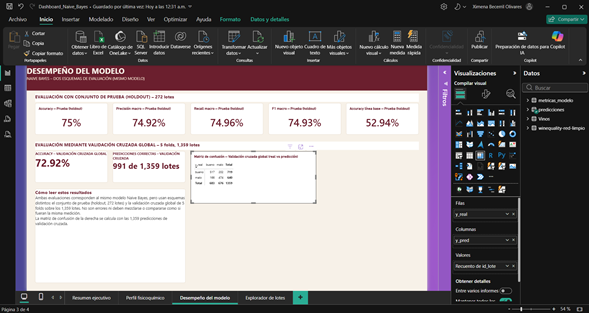

The dashboard page shown, as its layout file describes it:
{"tool":"powerbi","page":{"name":"Desempeño  del modelo","canvas":[1920,1080],"ordinal":2},"visuals":[{"type":"textbox","box":[0,0,1920,120],"z":0},{"type":"textbox","box":[40,135,1840,40],"z":1},{"type":"card","title":"Accuracy – Prueba (holdout)","fields":{"Values":["metricas_modelo.Accuracy modelo"]},"box":[40,180,348,150],"z":2},{"type":"card","title":"Precisión macro – Prueba (holdout)","fields":{"Values":["metricas_modelo.Precision modelo"]},"box":[413,180,348,150],"z":3},{"type":"card","title":"Recall macro – Prueba (holdout)","fields":{"Values":["metricas_modelo.Recall modelo"]},"box":[786,180,348,150],"z":4},{"type":"card","title":"F1 macro – Prueba (holdout)","fields":{"Values":["metricas_modelo.F1 modelo"]},"box":[1159,180,348,150],"z":5},{"type":"card","title":"Accuracy línea base – Prueba (holdout)","fields":{"Values":["metricas_modelo.Accuracy base"]},"box":[1532,180,348,150],"z":6},{"type":"textbox","box":[40,365,1840,40],"z":10},{"type":"textbox","box":[40,410,348,150],"z":11},{"type":"textbox","box":[413,410,348,150],"z":12},{"type":"textbox","box":[40,590,721,450],"z":13},{"type":"pivotTable","title":"Matriz de confusión – Validación cruzada global (real vs predicción)","fields":{"Columns":["predicciones.y_pred"],"Rows":["predicciones.y_real"],"Values":["CountNonNull(predicciones.id_lote)"]},"box":[786,410,1094,630],"z":14}]}

Visuals, with their boxes on the page's 1920x1080 design canvas (x1, y1, x2, y2). These are canvas units, not pixel positions in the 589x313 screenshot, which may show the page scaled, cropped or inside an application window:
textbox: (0,0,1920,120)
textbox: (40,135,1880,175)
"Accuracy – Prueba (holdout)" card: (40,180,388,330)
"Precisión macro – Prueba (holdout)" card: (413,180,761,330)
"Recall macro – Prueba (holdout)" card: (786,180,1134,330)
"F1 macro – Prueba (holdout)" card: (1159,180,1507,330)
"Accuracy línea base – Prueba (holdout)" card: (1532,180,1880,330)
textbox: (40,365,1880,405)
textbox: (40,410,388,560)
textbox: (413,410,761,560)
textbox: (40,590,761,1040)
"Matriz de confusión – Validación cruzada global (real vs predicción)" pivotTable: (786,410,1880,1040)
